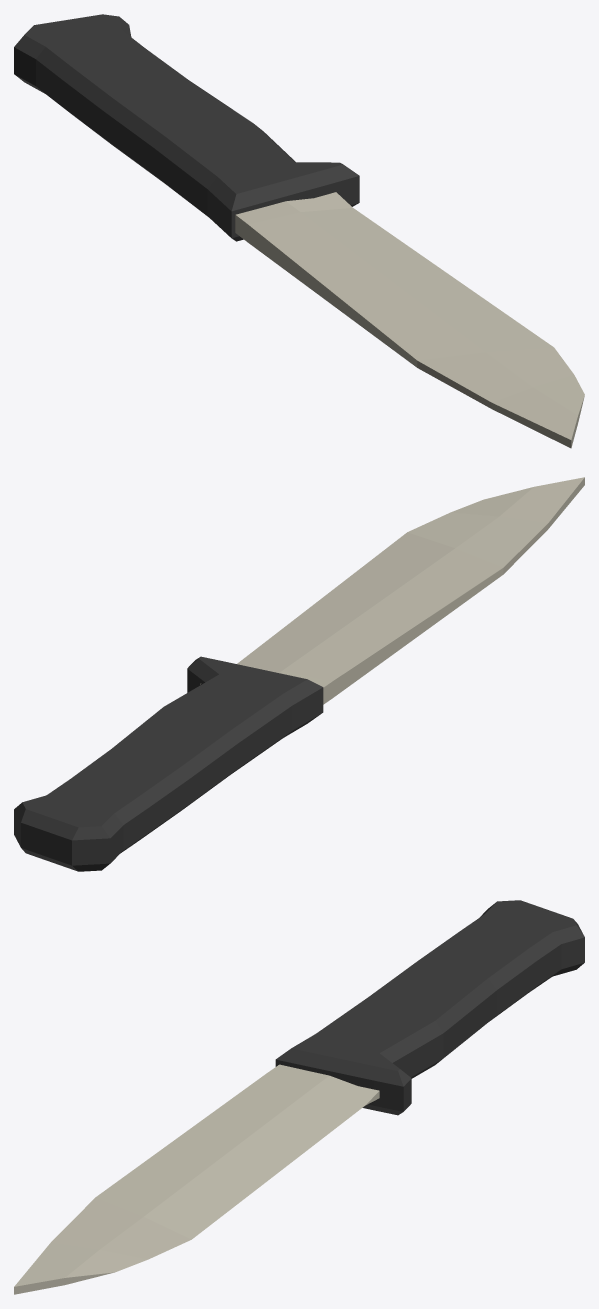
File: Knife_Large_01.fbx
3 renders of one model, top to bottom at view 1: azimuth 30°, elevation 25°; view 2: azimuth 150°, elevation 25°; view 3: azimuth 330°, elevation 25°, orthographic. The views are drawn at different scales.
Visible parts, largest first — view 1: Knife_Large_01; view 2: Knife_Large_01; view 3: Knife_Large_01.
Part boxes in pixels (<box>): Knife_Large_01: <box>14,14,584,448</box>; Knife_Large_01: <box>14,477,584,871</box>; Knife_Large_01: <box>14,900,584,1294</box>.
Size of the model in its own units: 0.0429 by 0.0143 by 0.2974.
